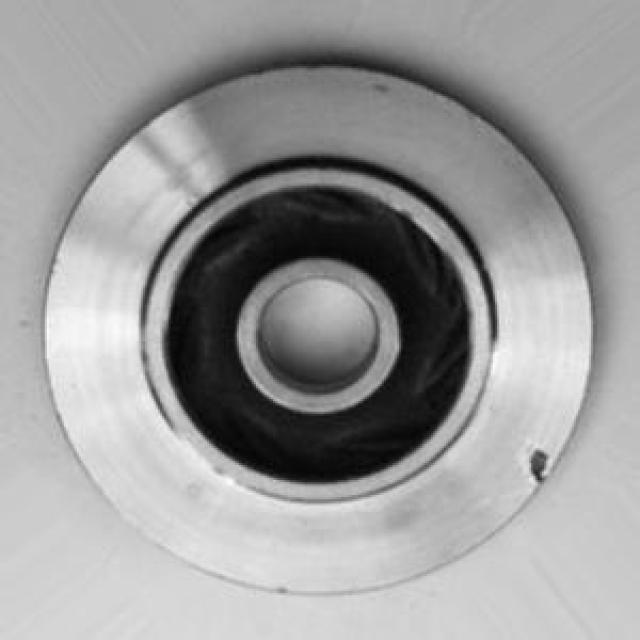Defect: (529, 444, 550, 489)
